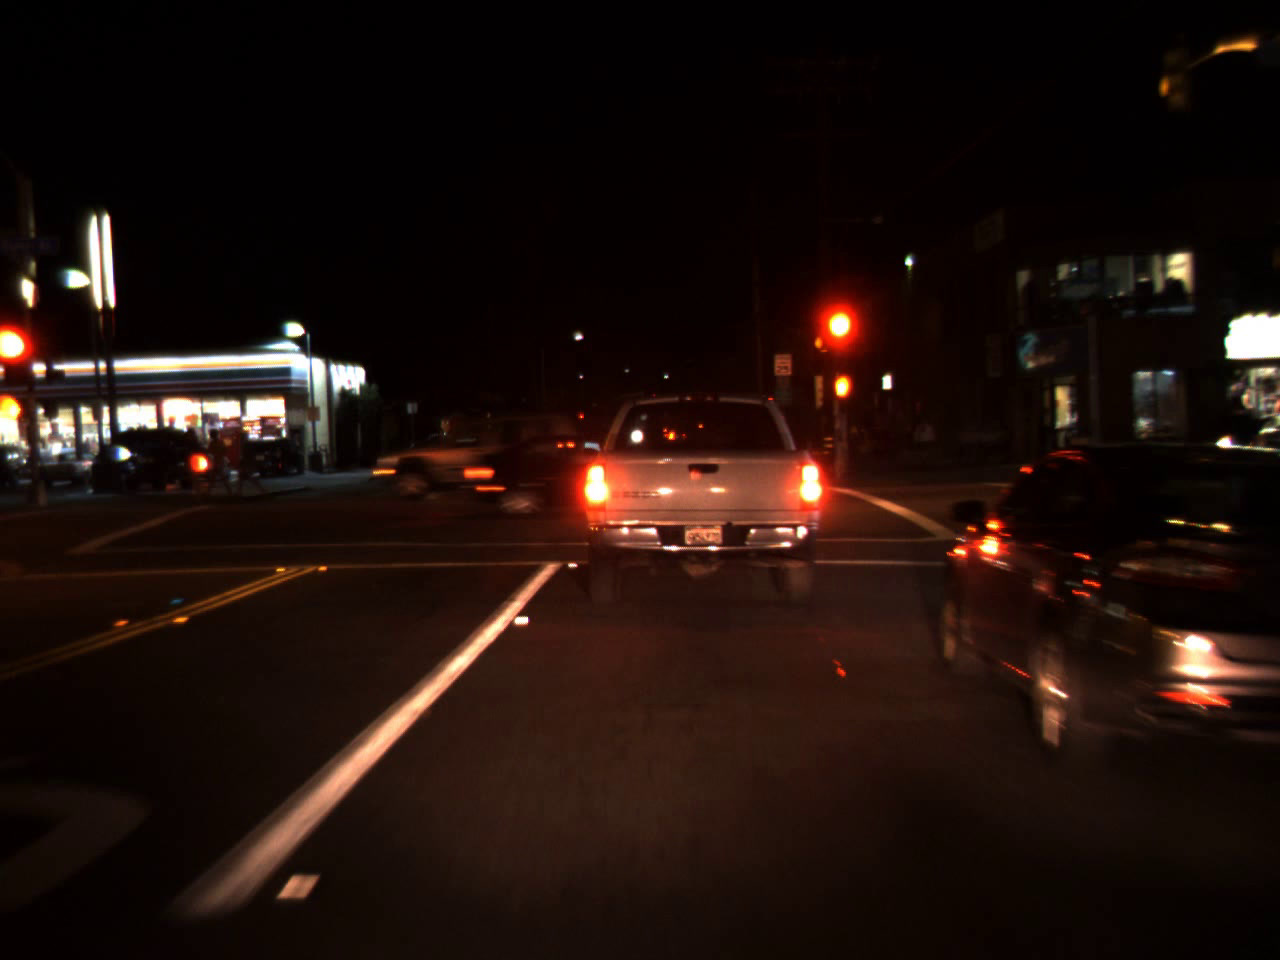stop: (821, 307, 857, 371), (0, 324, 30, 394), (578, 410, 584, 426)
